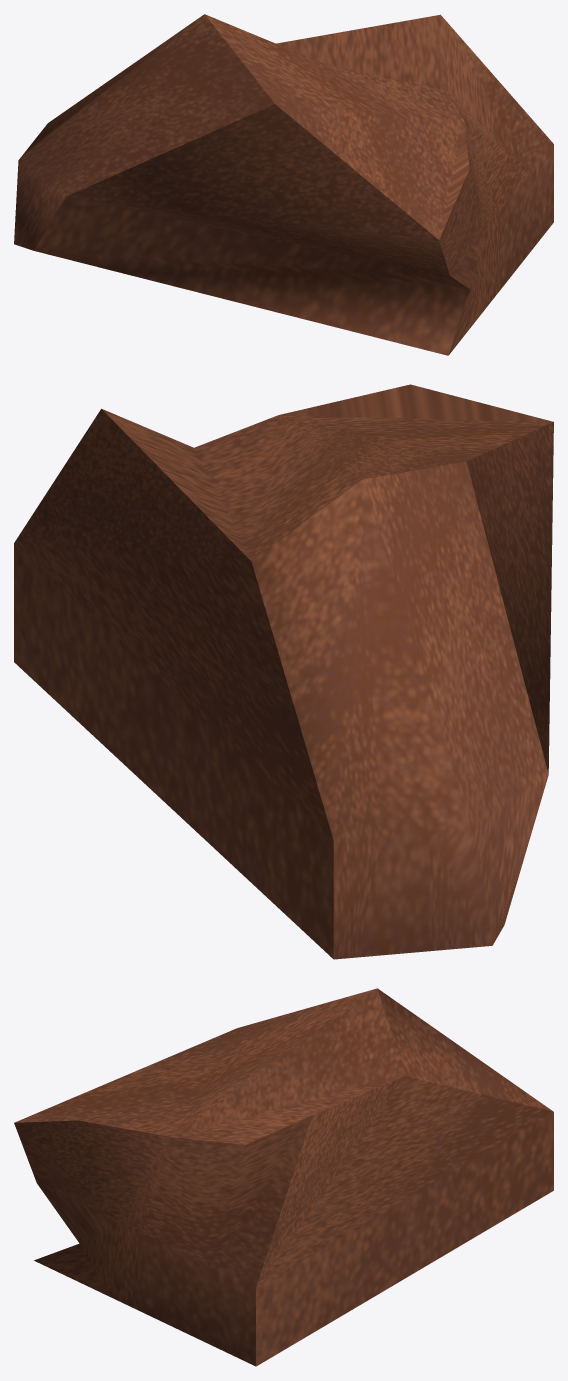
The model's file is Rock12.fbx.
3 views of the same model, one above another, from view 1: azimuth 30°, elevation 25°; view 2: azimuth 150°, elevation 25°; view 3: azimuth 270°, elevation 25° (orthographic). The views are drawn at different scales.
Parts seen in each view (by area): view 1: polySurface6; view 2: polySurface6; view 3: polySurface6.
Boxes of the visible parts, left/top/right/bottom form: polySurface6: left=14, top=14, right=553, bottom=355; polySurface6: left=14, top=384, right=553, bottom=959; polySurface6: left=14, top=988, right=553, bottom=1366.
Size of the model in its own units: 5.68 by 2.98 by 6.18.
